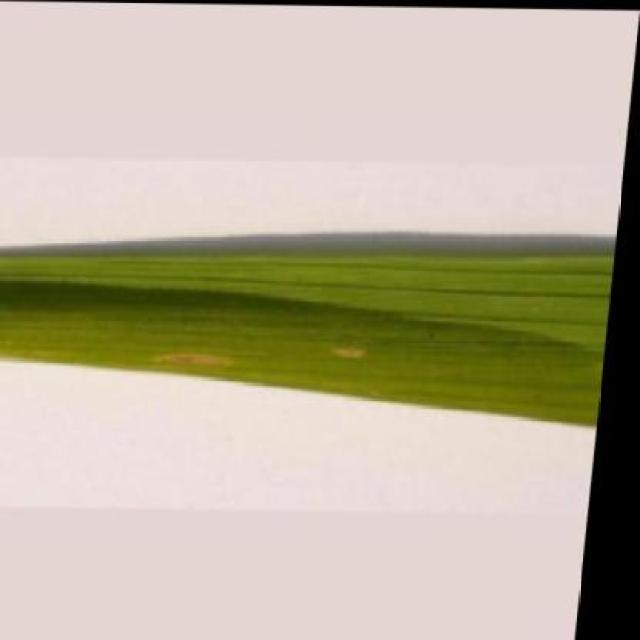Brown_Spot: (0, 240, 620, 426)
